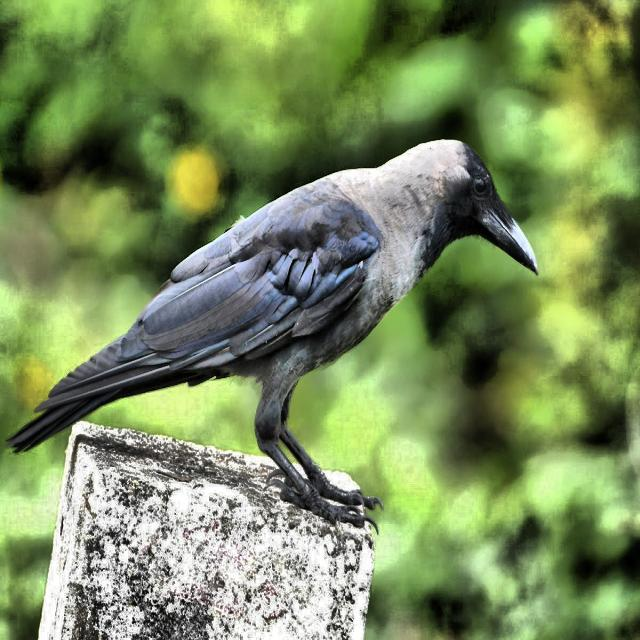crow: (15, 95, 555, 544)
